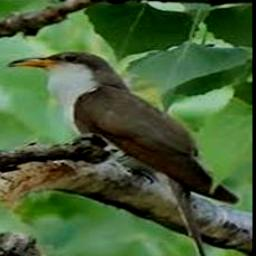Cuckoo: (6, 51, 238, 255)
